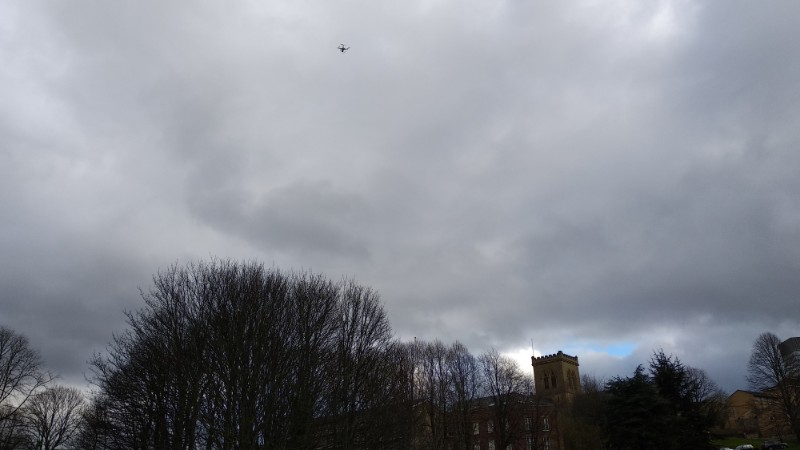drone: (338, 43, 351, 53)
